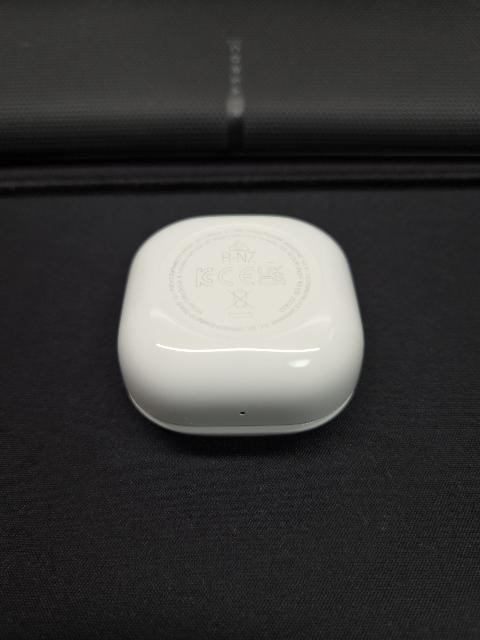earphone_case: (117, 214, 363, 436)
